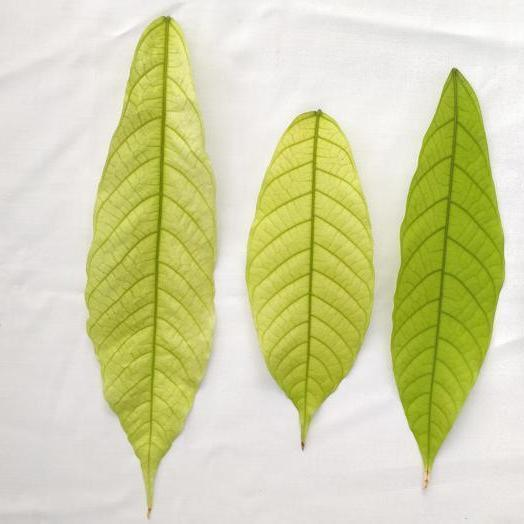Iron: (87, 16, 214, 516), (392, 68, 504, 486), (246, 110, 373, 448)
